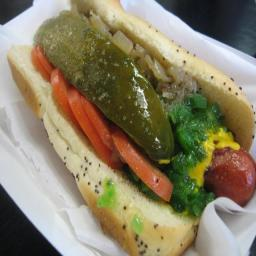hotdog: (7, 2, 256, 255)
